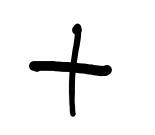plus: (30, 24, 110, 117)
